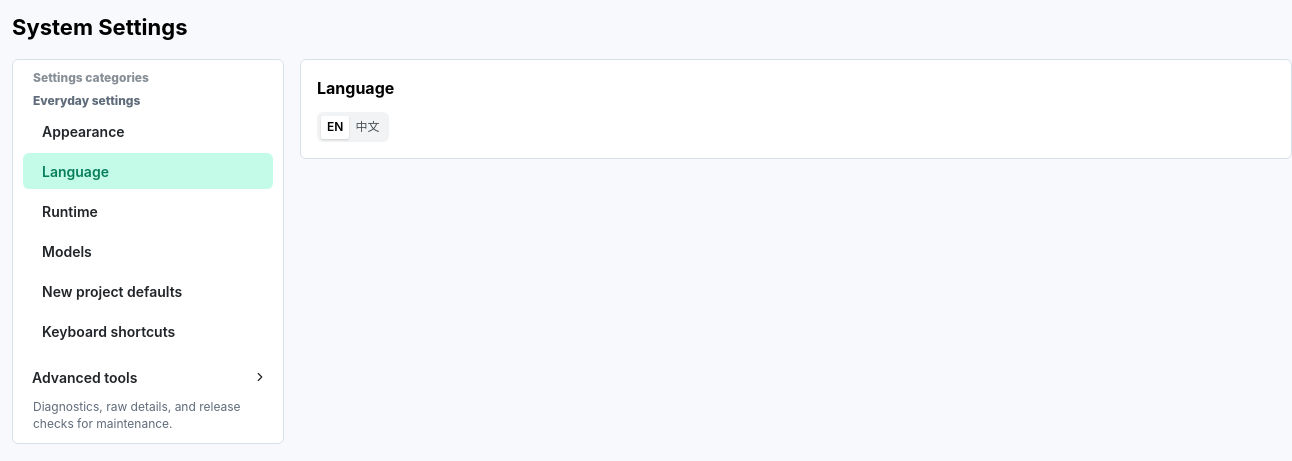
Test case: SettingsPage › separates language and appearance into system settings categories
What coordinates should you click on to do the following:
click the button "Language"
I would click on:
 (148, 171)
Its box is [23,153,273,189].
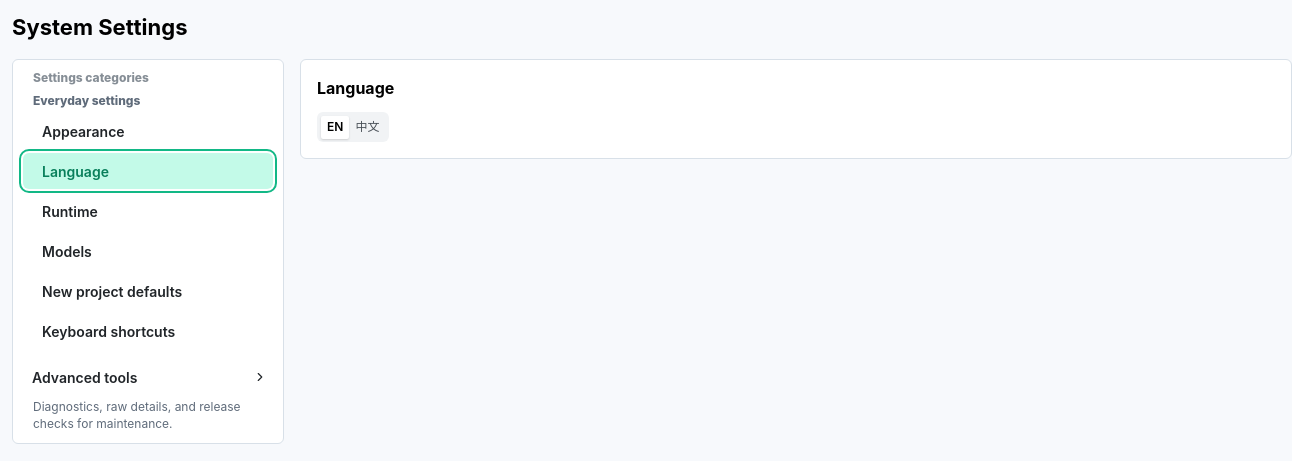
expect the heading "Language" is shown: met, box [317,78,394,98]
expect the element named "Interface language" is shown: met, box [317,112,389,142]
What coordinates should you click on to do the following:
click the button "Appearance"
I would click on:
 (148, 131)
Its box is [23,113,273,149].
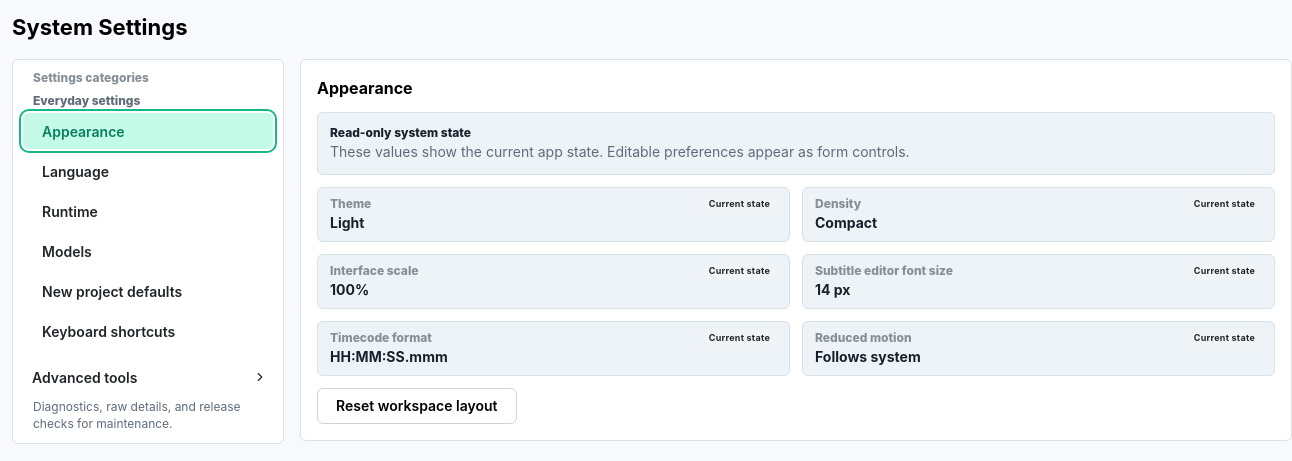
expect the heading "Appearance" is shown: met, box [317,78,413,98]
expect the element "Theme" shows "Light": met, box [330,214,364,231]
expect the element "Density" shows "Compact": met, box [815,214,877,231]
